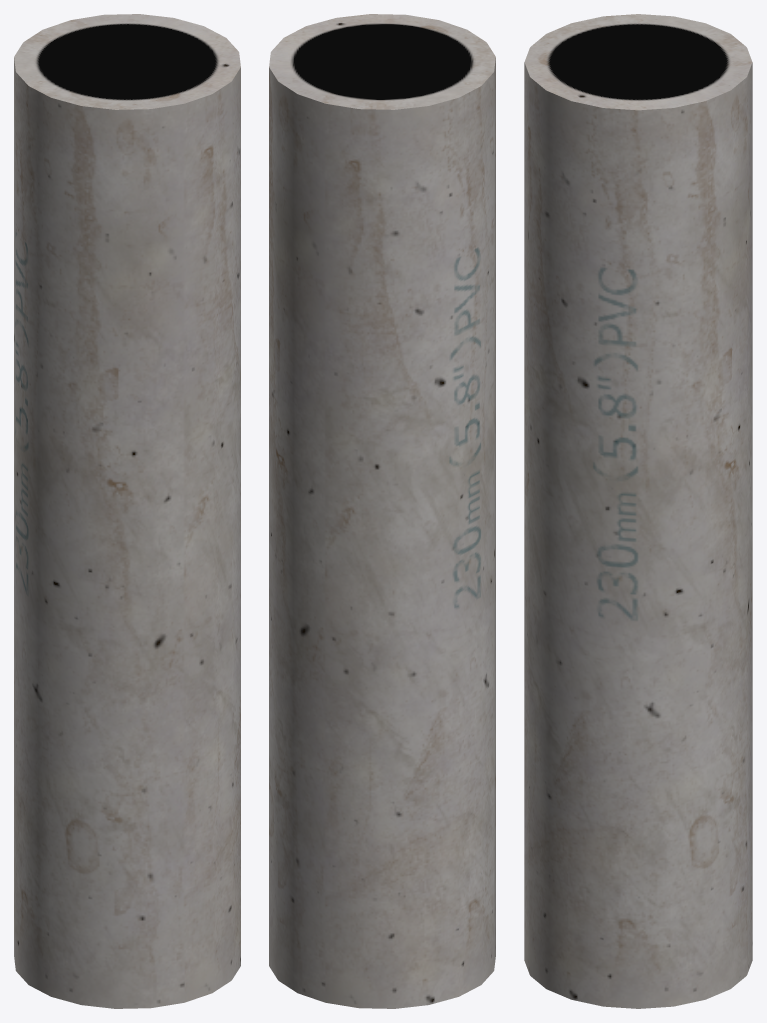
Rendered from PlasticPipe_09a_snaps011.fbx.
3 views of the same model, side by side, from view 1: azimuth 30°, elevation 25°; view 2: azimuth 150°, elevation 25°; view 3: azimuth 270°, elevation 25° (orthographic).
Visible parts, largest first — view 1: PlasticPipe_09a_snaps011_LOD0; view 2: PlasticPipe_09a_snaps011_LOD0; view 3: PlasticPipe_09a_snaps011_LOD0.
Boxes of the visible parts, box(x1,y1,x2,y2) form: PlasticPipe_09a_snaps011_LOD0: box(14, 14, 240, 1008); PlasticPipe_09a_snaps011_LOD0: box(269, 14, 495, 1008); PlasticPipe_09a_snaps011_LOD0: box(524, 14, 752, 1008).
Size of what is drawn, in the model's own units: 23 by 100 by 23.
